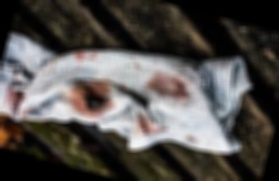blood: (67, 74, 117, 120), (142, 70, 191, 103), (134, 115, 167, 140), (1, 87, 25, 112)
